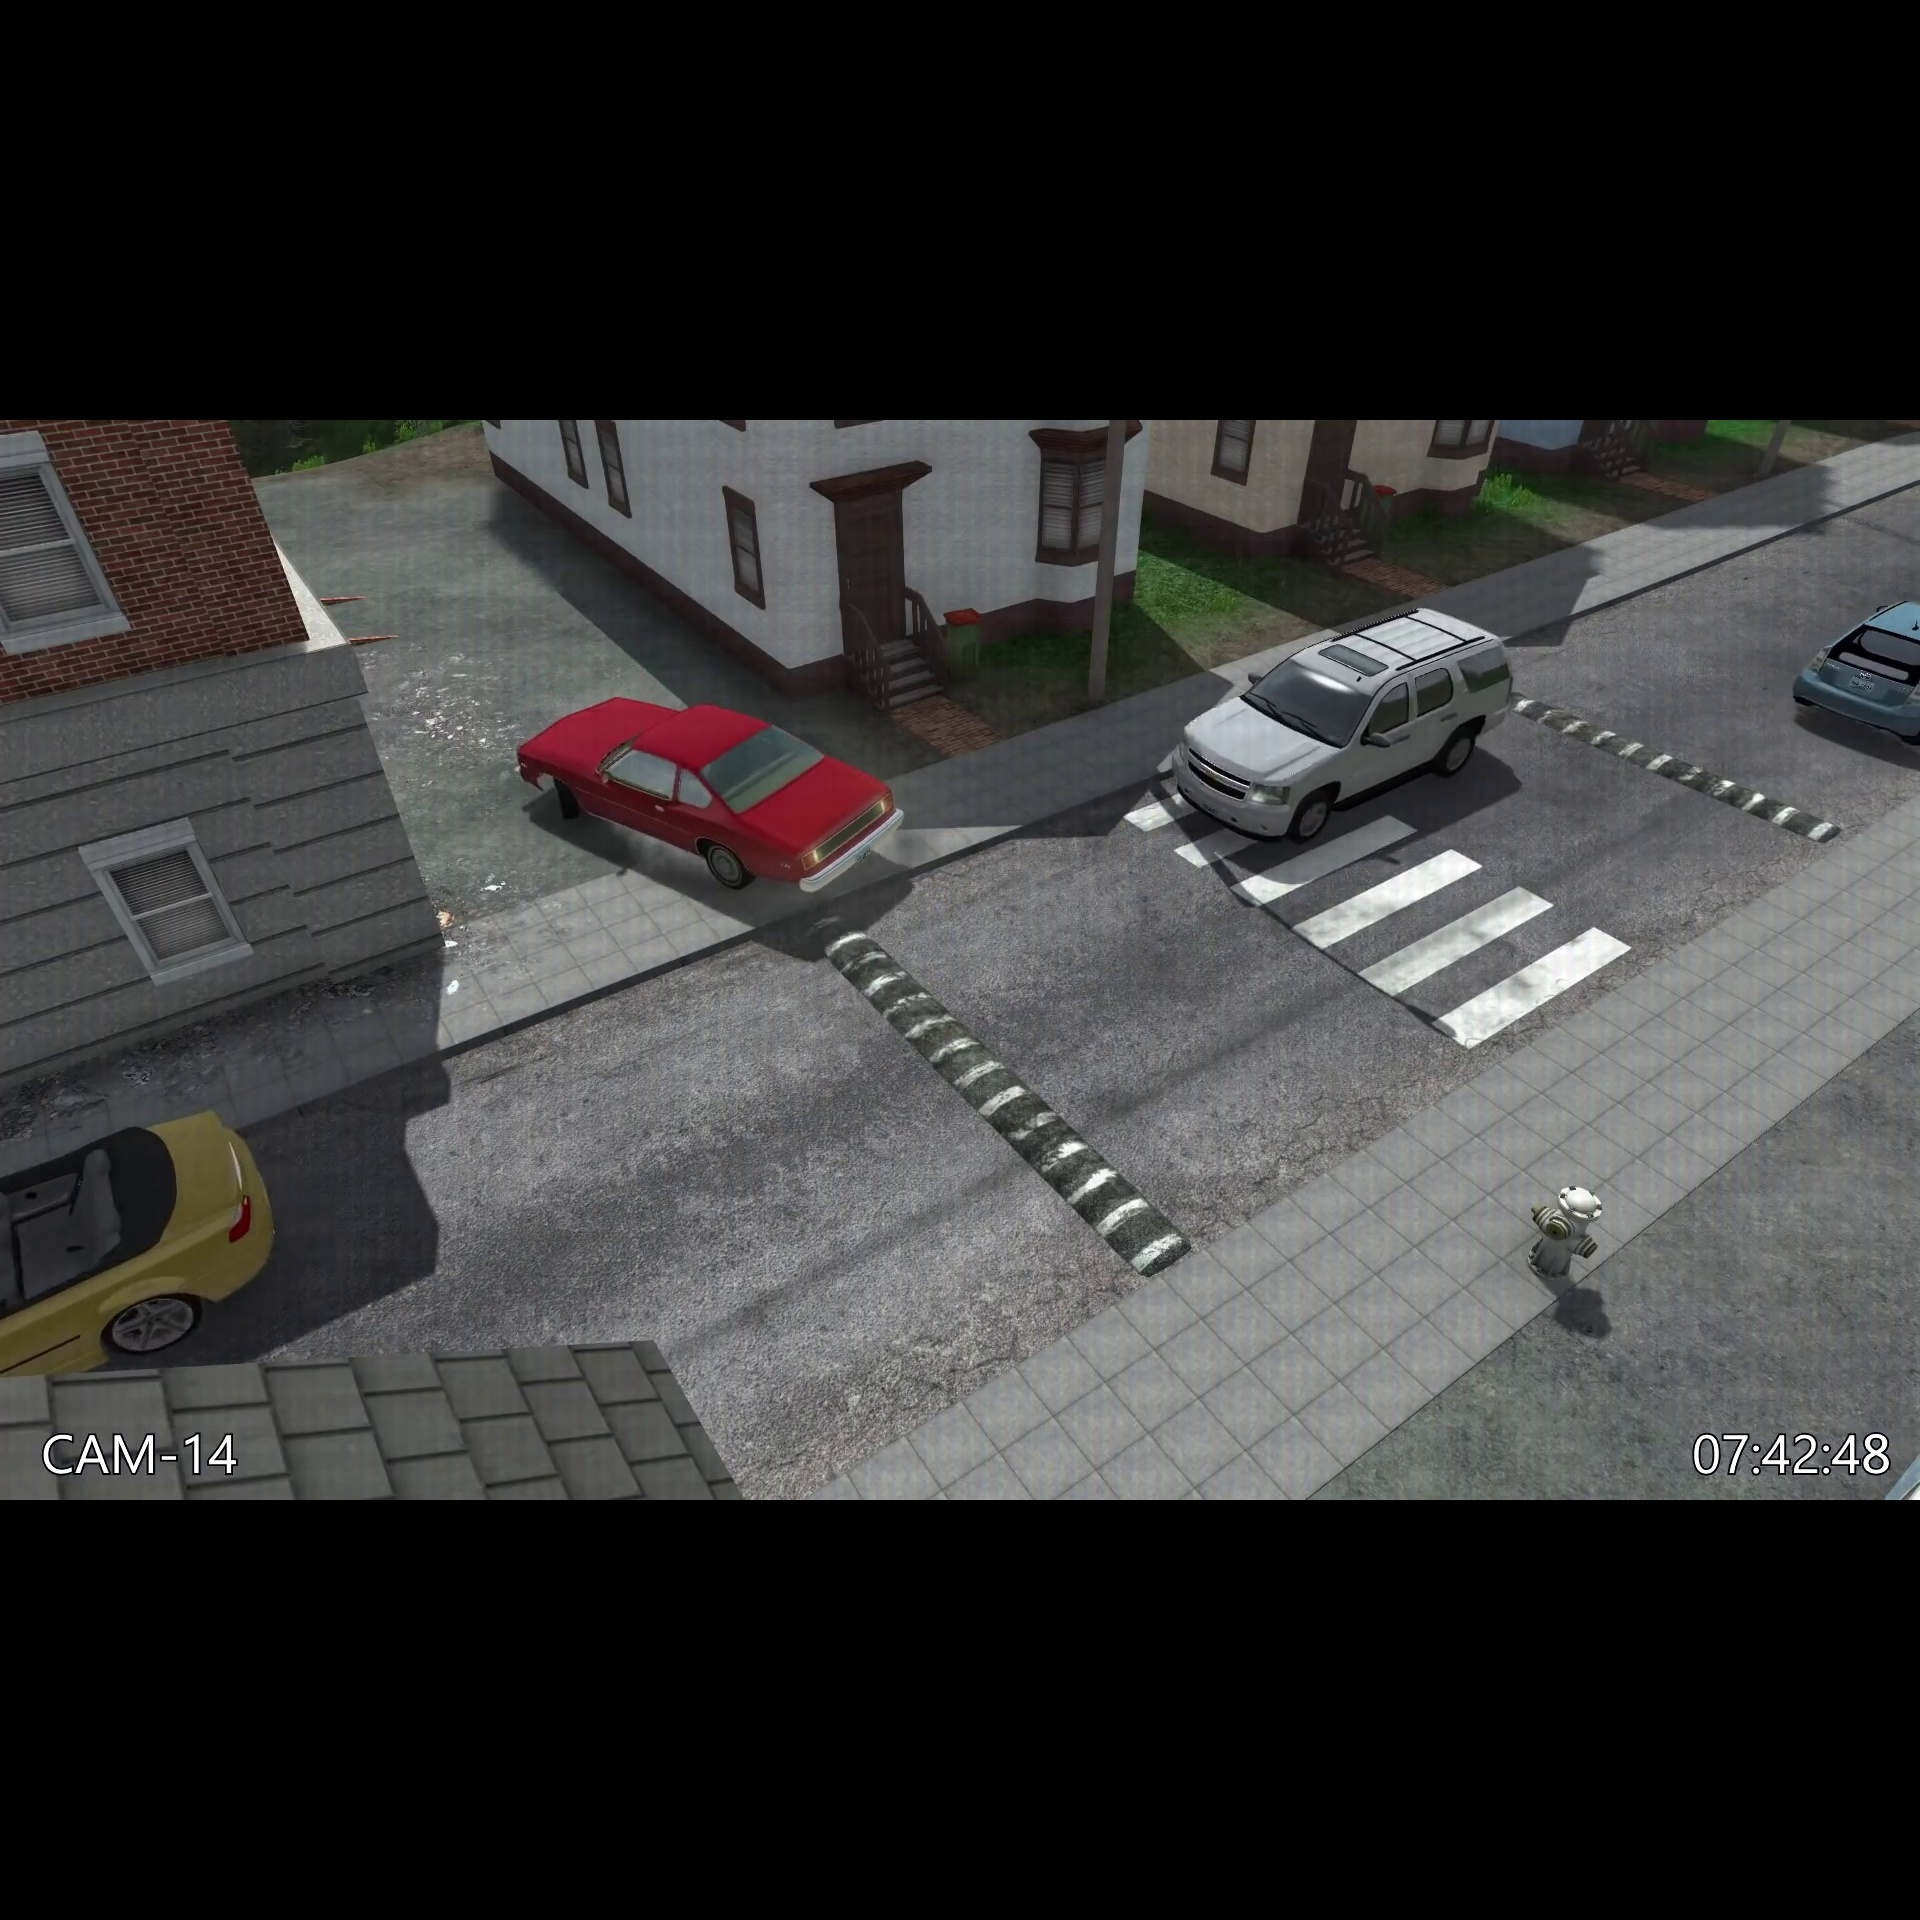vehicle: (506, 682, 913, 905), (1166, 600, 1523, 851), (2, 1108, 288, 1375), (1783, 587, 1920, 753)
